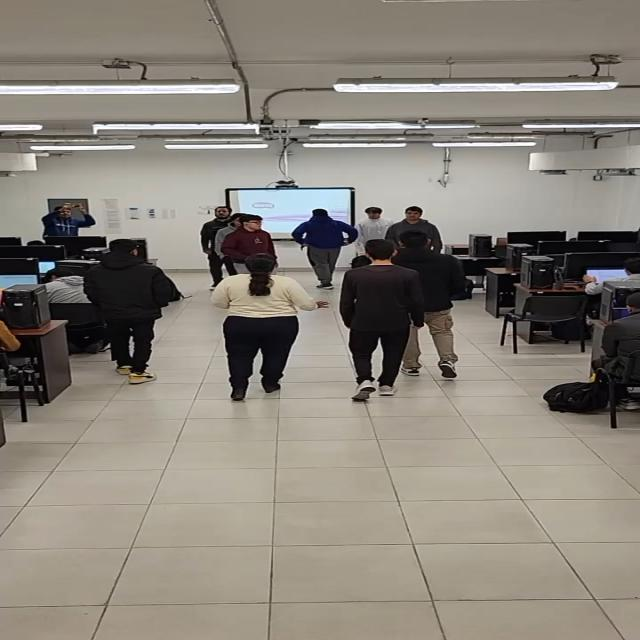Persona: (209, 252, 318, 401), (81, 238, 177, 386), (333, 237, 417, 401), (398, 229, 464, 381), (295, 204, 340, 288), (196, 203, 235, 278)
